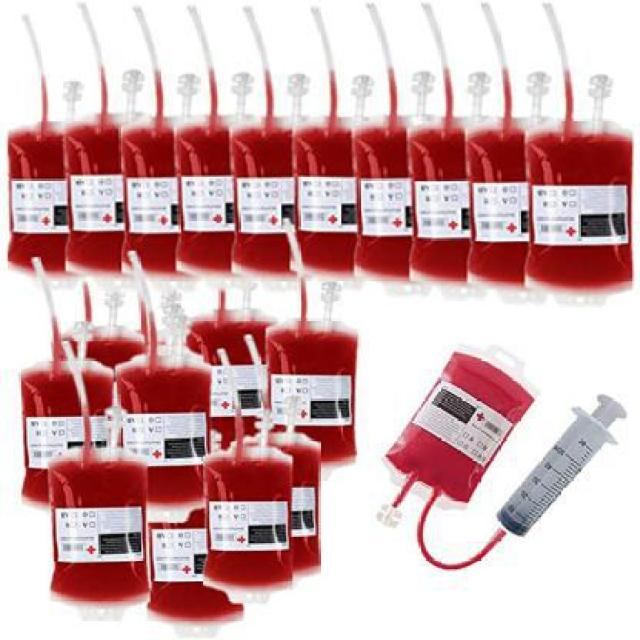B3: (377, 338, 541, 520), (407, 122, 535, 301), (522, 115, 640, 307), (226, 124, 356, 293), (33, 451, 164, 612), (348, 119, 467, 288), (3, 118, 119, 290), (284, 123, 404, 289), (109, 113, 228, 279), (13, 355, 129, 517), (173, 118, 290, 278), (60, 118, 169, 287), (258, 308, 359, 472), (112, 355, 226, 496), (200, 444, 297, 596)
